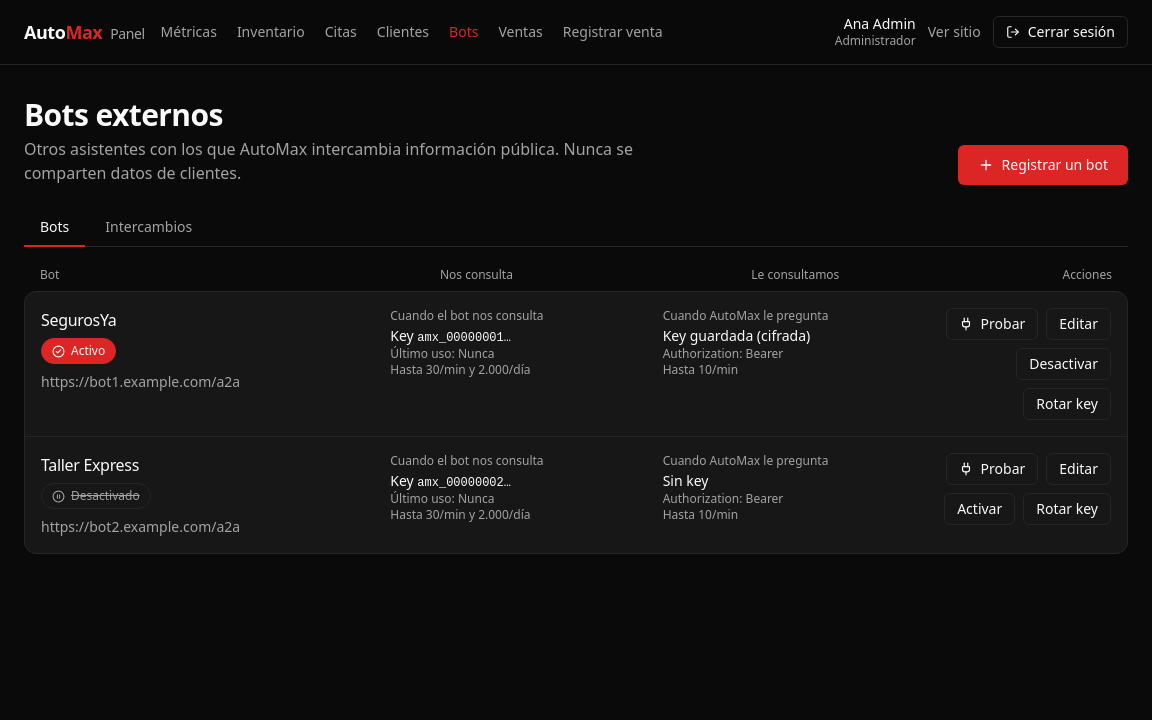
Scenario: registrar un bot › copia la key al portapapeles
This screenshot has width=1152, height=720.
Click the button "Registrar un bot". click: x=1043, y=165
box: [958,145,1128,185]
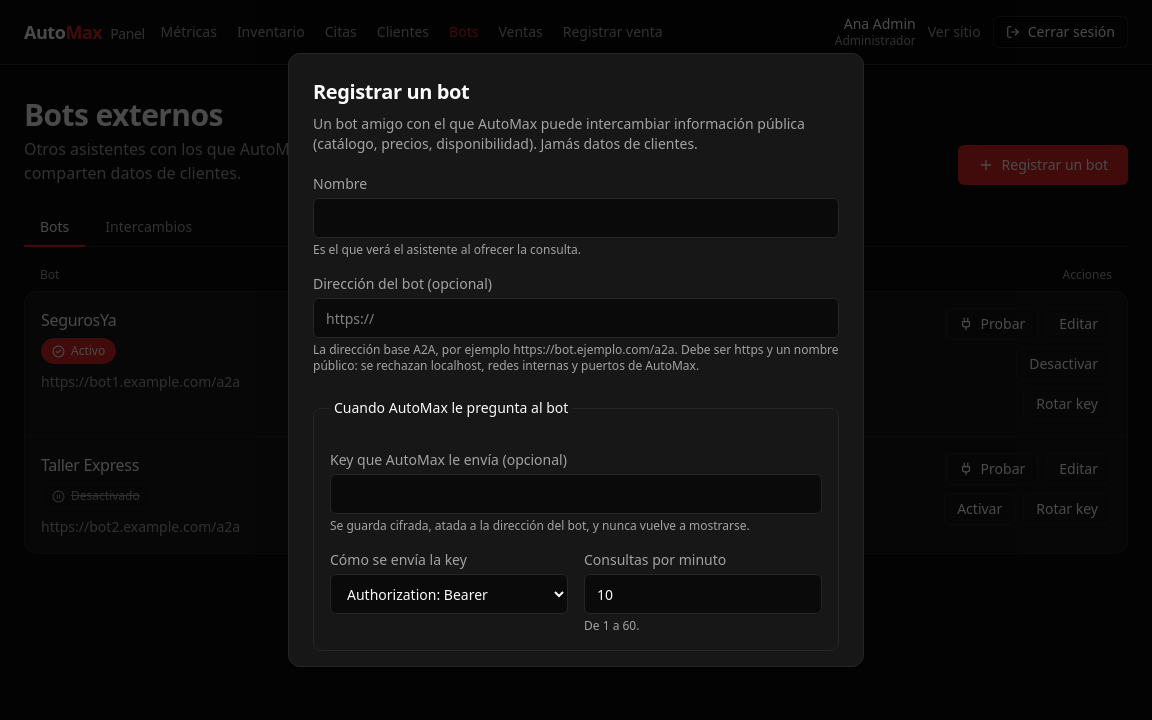
Type "Bot Nuevo" into the field labelled "Nombre". click: x=576, y=218
box: [313,198,839,238]
(page scrolled)
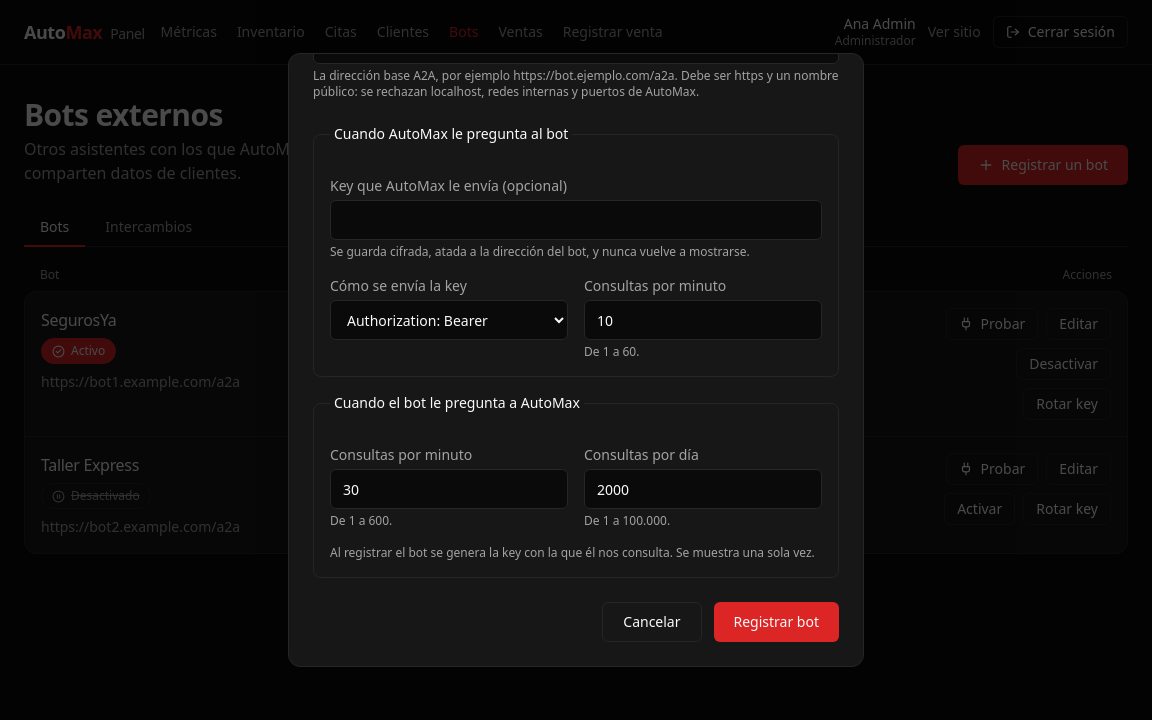
Click the button "Registrar bot". click: x=776, y=622
box: [714,602,839,642]
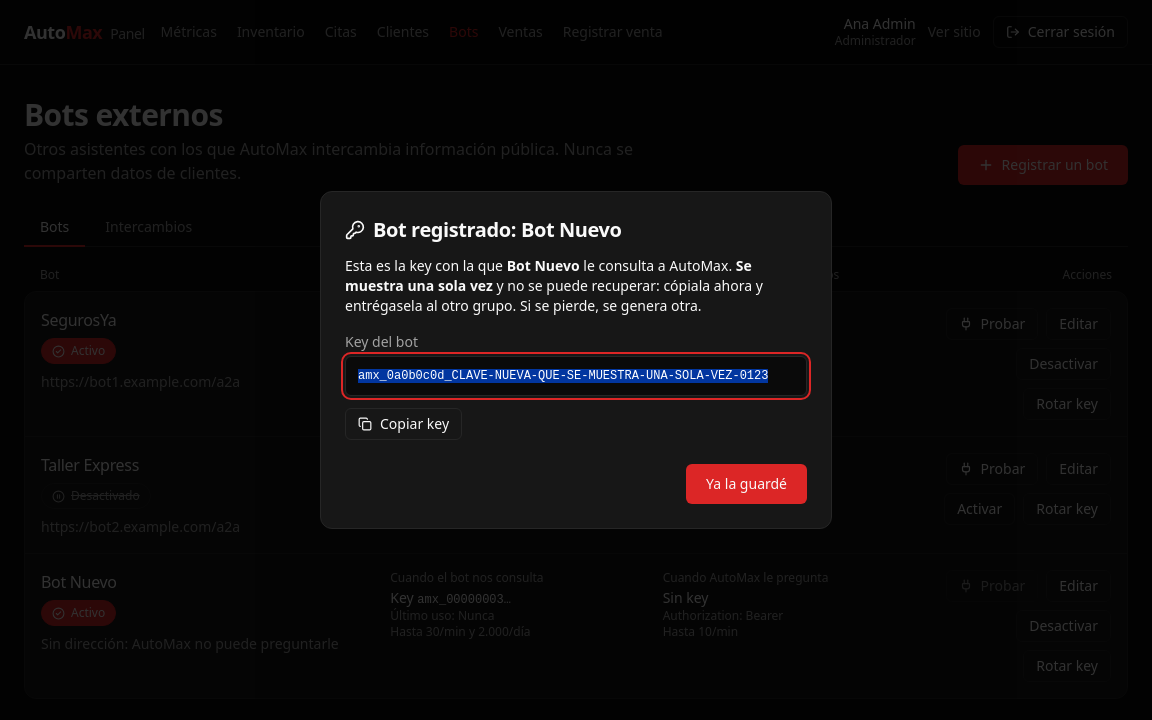
Click the button "Copiar key". click: x=404, y=424
box: [345,408,462,440]
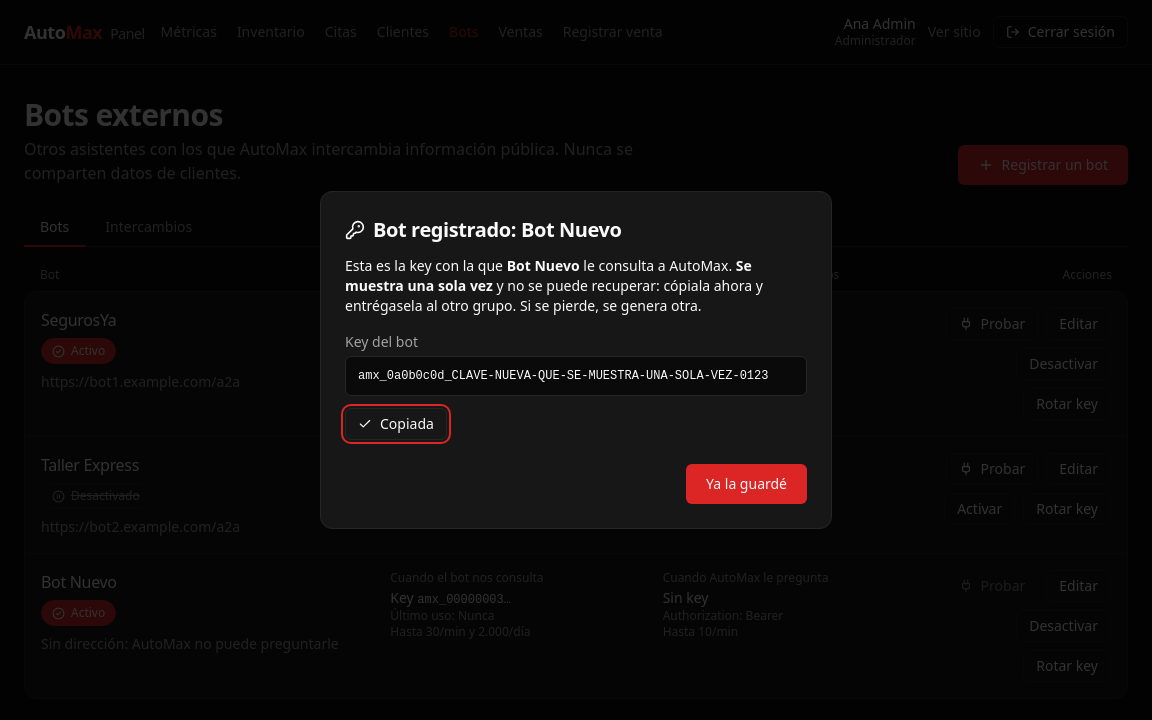
Now the button "Copiada" is shown, box [345,408,447,440]
